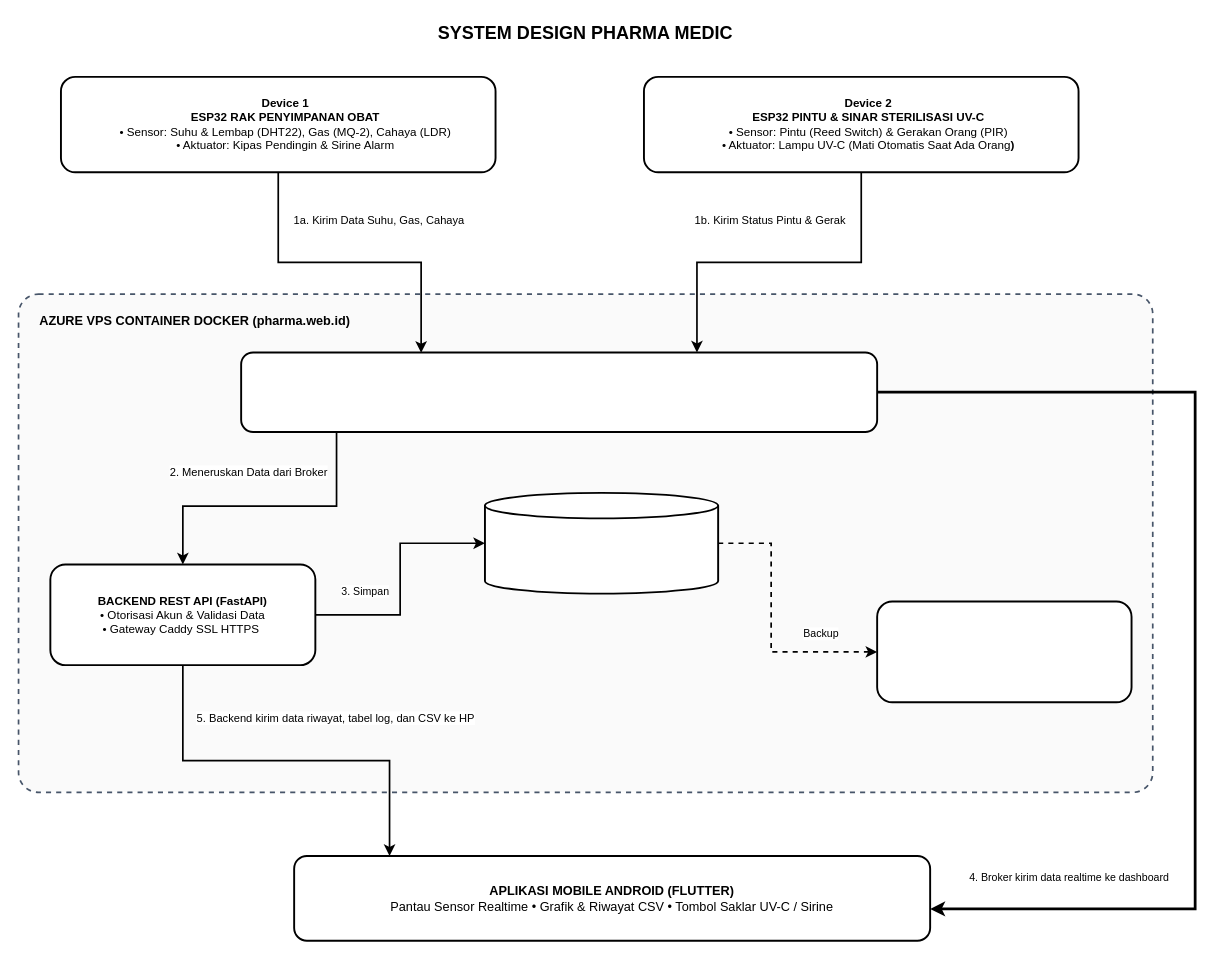
Some shapes in this 1224 by 959 pixel diagram are drawn without their labels. The centre of each missing label's shape, as x and y in pixels:
AUTO-BACKUP • Pemantauan Database Realtime • Auto-Restore (4 Detik): pixel 1004 651
BROKER MQTT (MOSQUITTO) Pusat Data Realtime & Perintah Kontrol: pixel 559 391
DATABASE (MySQL) • Tabel users (Akun Petugas) • Tabel sensor_data (Log Riwayat): pixel 601 542
